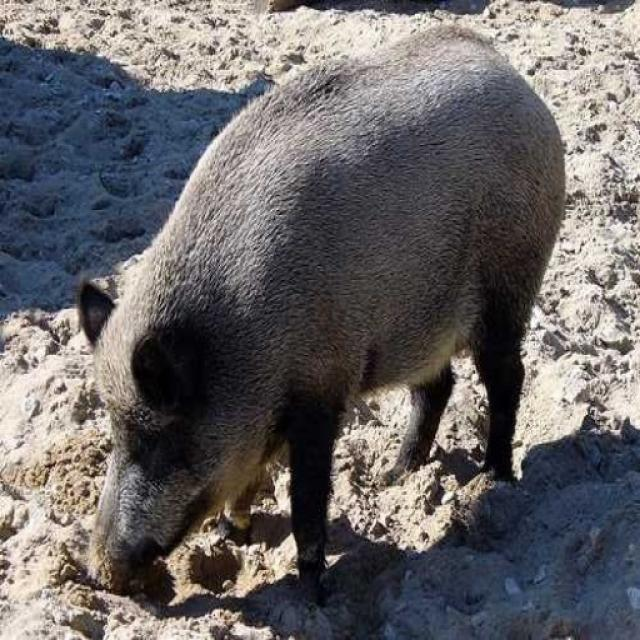pig: (50, 36, 580, 630)
